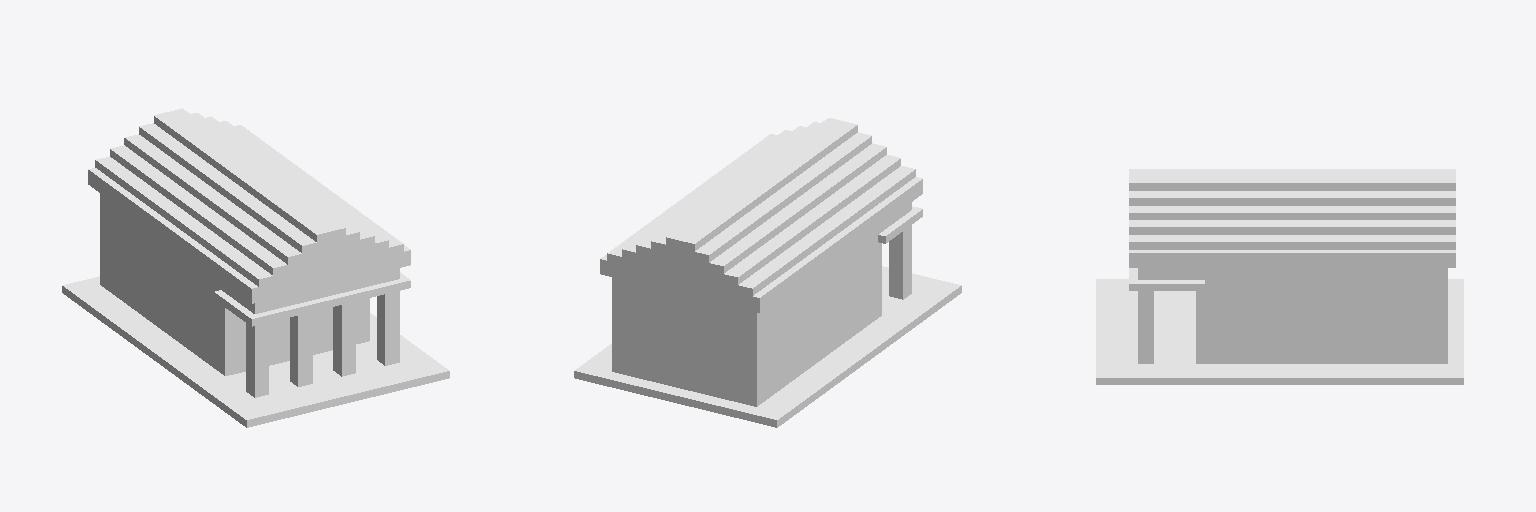
Rendered from building3_color.obj.
3 renders of one model, left to right at view 1: azimuth 30°, elevation 25°; view 2: azimuth 150°, elevation 25°; view 3: azimuth 270°, elevation 25°, orthographic.
Parts seen in each view (by area): view 1: building3_color; view 2: building3_color; view 3: building3_color.
Part boxes in pixels (x1,y1,x2,y2): building3_color: (62, 108, 449, 427); building3_color: (574, 118, 961, 427); building3_color: (1096, 169, 1463, 384).
Size of the model in its own units: 28 by 21 by 44.